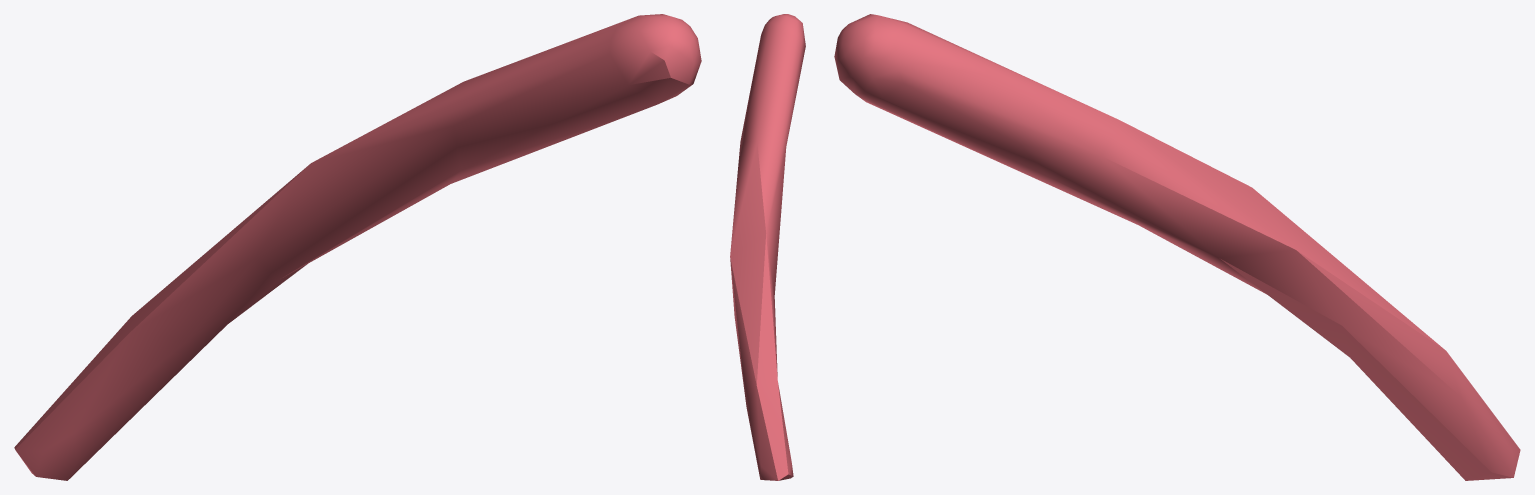
File: fma8670_fj3066.glb
3 renders of one model, left to right at view 1: azimuth 30°, elevation 25°; view 2: azimuth 150°, elevation 25°; view 3: azimuth 270°, elevation 25°, orthographic. The views are drawn at different scales.
Visible parts, largest first — view 1: FMA8670_FJ3066; view 2: FMA8670_FJ3066; view 3: FMA8670_FJ3066.
Boxes of the visible parts, x1=… form: FMA8670_FJ3066: x1=14, y1=14, x2=701, y2=480; FMA8670_FJ3066: x1=730, y1=14, x2=805, y2=480; FMA8670_FJ3066: x1=834, y1=14, x2=1520, y2=480.
Bounding box in the file's own units: 0.0124 × 0.02 × 0.0207.
